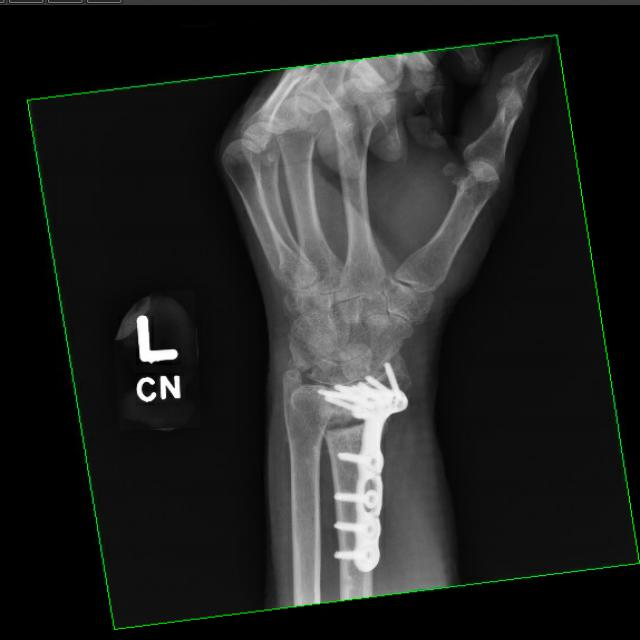x-ray: (314, 363, 425, 580)
